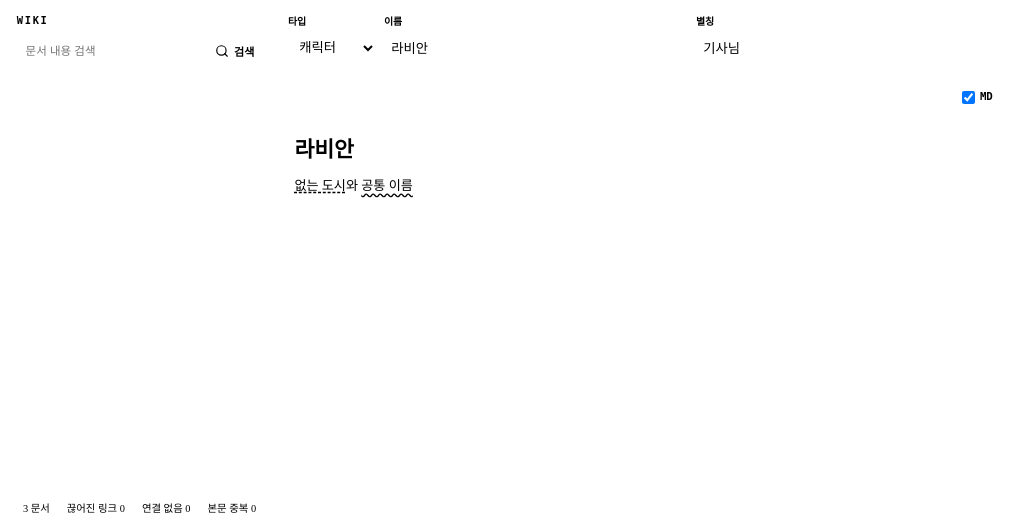
RisuBardWikiEditor › distinguishes missing links from name collisions and explains both on activation
Click the button "공통 이름" at point(387, 186), box [361,178,413,193]
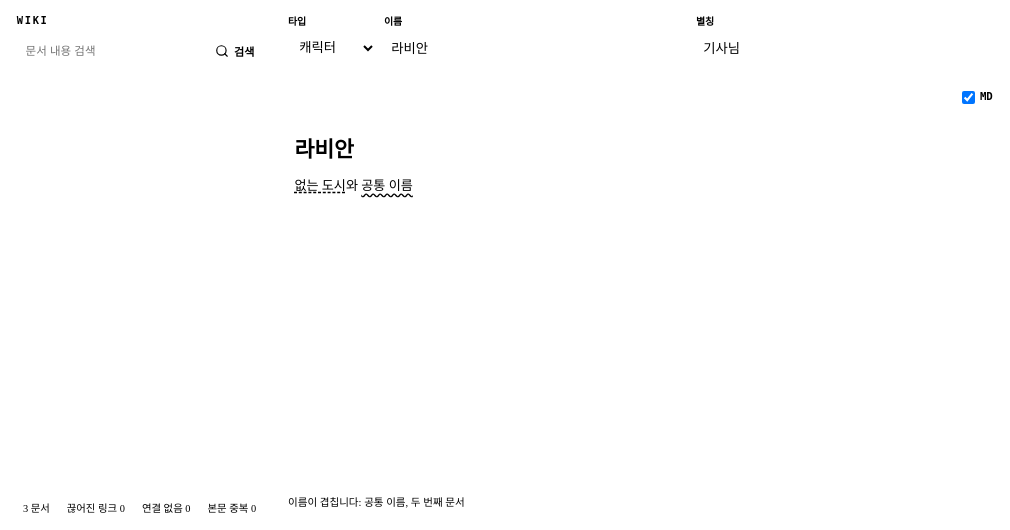
Result: the text "이름이 겹칩니다: 공통 이름, 두 번째 문서" is shown at [288,497,465,508]
Press Enter in the button "없는 도시", box [294,178,346,193]
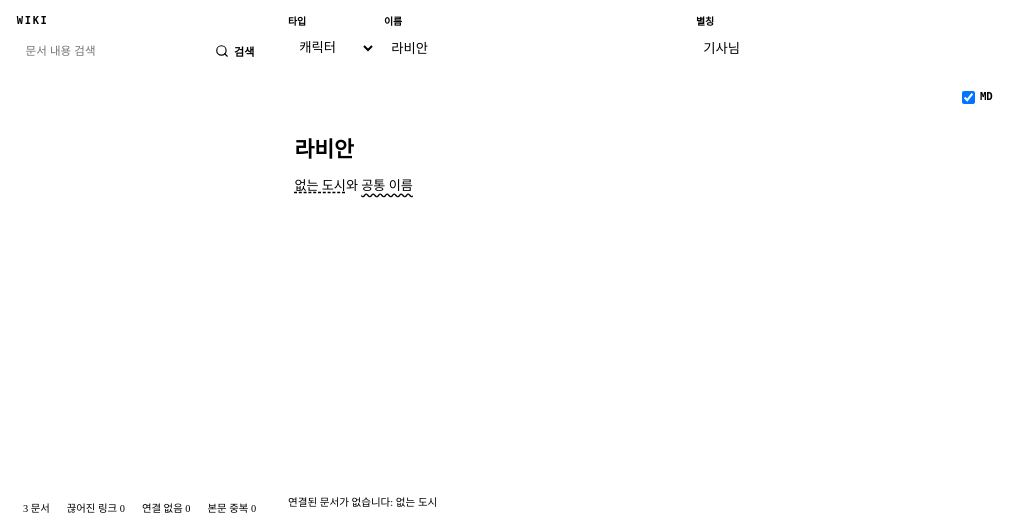
Result: the text "연결된 문서가 없습니다: 없는 도시" is shown at [288,497,437,508]
